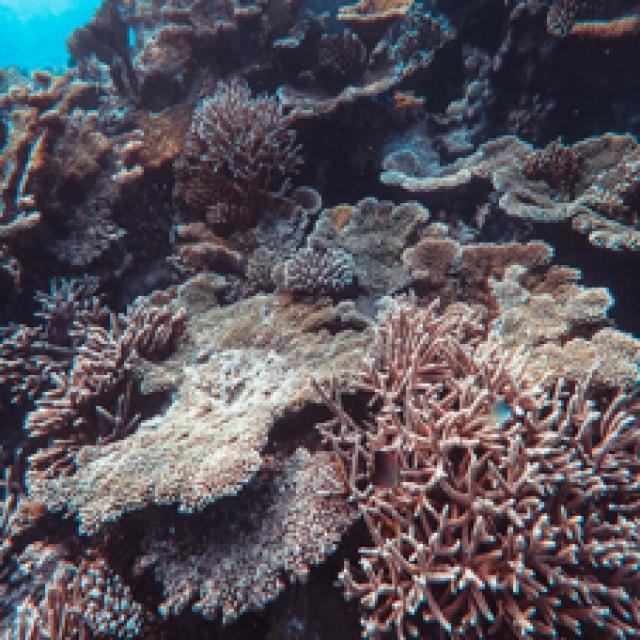Dead Coral: (57, 181, 395, 611), (120, 429, 393, 622), (0, 259, 214, 489), (66, 0, 464, 90), (0, 54, 139, 265), (167, 61, 323, 194), (262, 206, 385, 317), (511, 133, 607, 199)
